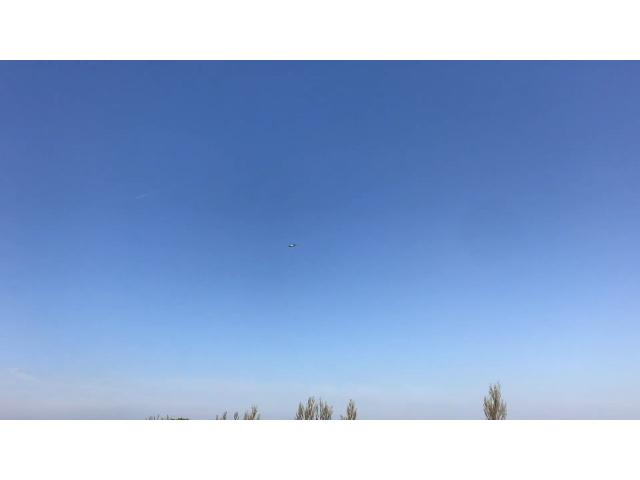Anti-Drone: (280, 239, 304, 255)
